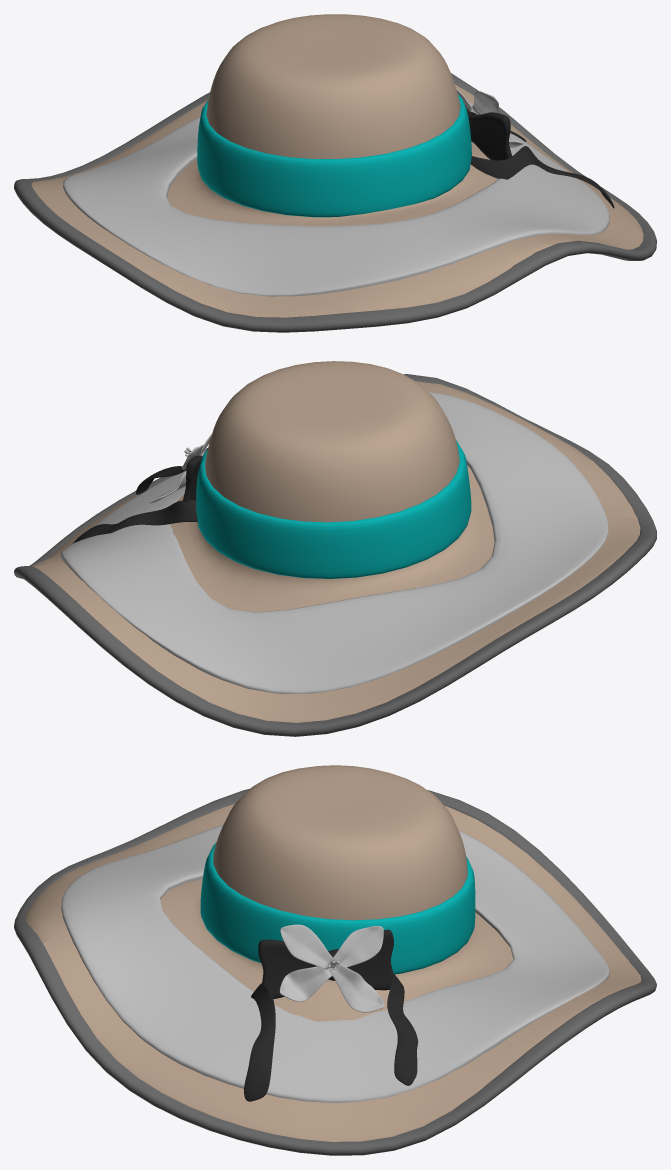
Rendered from Female_Hat.glb.
3 views of the same model, one above another, from view 1: azimuth 30°, elevation 25°; view 2: azimuth 150°, elevation 25°; view 3: azimuth 270°, elevation 25° (orthographic).
Parts seen in each view (by area): view 1: Female_Hat; view 2: Female_Hat; view 3: Female_Hat.
Part boxes in pixels (box(x1,y1,x2,y2)): Female_Hat: box(14, 14, 656, 332); Female_Hat: box(14, 361, 656, 736); Female_Hat: box(14, 765, 656, 1155).
Bounding box in the file's own units: 16.47 × 6.37 × 16.48.
